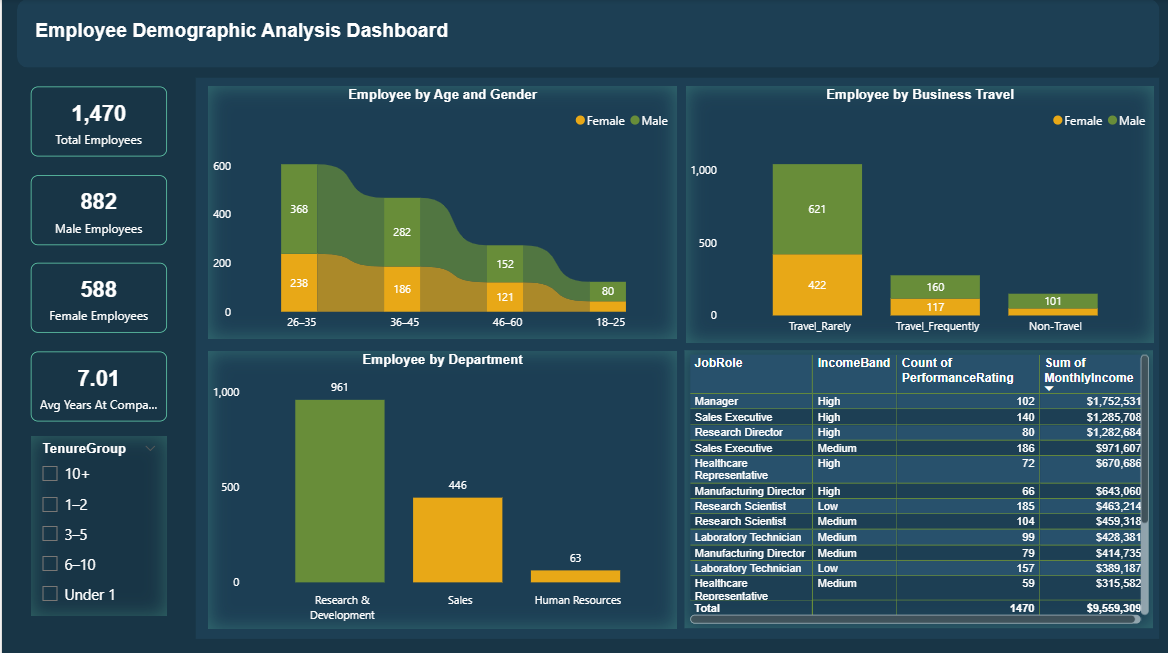

The page's visual inventory and layout, read from the dashboard file:
{"tool":"powerbi","page":{"name":"Employee Demographic Dahsboard","canvas":[1280,720],"ordinal":2},"visuals":[{"type":"shape","box":[16.5,0,1254.2,75.5],"z":0},{"type":"textbox","box":[31.6,17.8,945.5,42.5],"z":1000},{"type":"card","fields":{"Values":["Measure_Table.Total Employees"]},"box":[31.6,96.1,149.6,76.7],"z":2000,"group":"g1"},{"type":"slicer","fields":{"Values":["HR_Employee_Attrition.TenureGroup"]},"box":[31.6,480.3,149.6,197.6],"z":2000},{"type":"shape","box":[212.7,86.4,1058,616.1],"z":3000},{"type":"card","fields":{"Values":["Measure_Table.Total Employees"]},"box":[31.6,290.2,149.6,76.7],"z":3000,"group":"g1"},{"type":"ribbonChart","title":"Employee by Age and Gender","fields":{"Category":["HR_Employee_Attrition.AgeBand"],"Series":["HR_Employee_Attrition.Gender"],"Y":["Measure_Table.Total Employees"]},"box":[226.4,96.1,514.6,277.2],"z":4000},{"type":"card","fields":{"Values":["Measure_Table.Total Employees"]},"box":[31.6,193.1,149.6,76.7],"z":4000,"group":"g1"},{"type":"columnChart","title":"Employee by Business Travel","fields":{"Category":["HR_Employee_Attrition.BusinessTravel"],"Y":["Measure_Table.Total Employees"],"Series":["HR_Employee_Attrition.Gender"]},"box":[750.6,96.1,514.6,281.3],"z":5000},{"type":"card","fields":{"Values":["Measure_Table.Avg Years At Company"]},"box":[31.6,387.2,149.6,76.7],"z":5000,"group":"g1"},{"type":"tableEx","title":"Employee by Business Travel","fields":{"Values":["HR_Employee_Attrition.JobRole","HR_Employee_Attrition.IncomeBand","CountNonNull(HR_Employee_Attrition.PerformanceRating)","Sum(HR_Employee_Attrition.MonthlyIncome)"]},"box":[749.2,385.6,514.6,304.6],"z":6000},{"type":"columnChart","title":"Employee by Department","fields":{"Y":["Measure_Table.Total Employees"],"Category":["HR_Employee_Attrition.Department"]},"box":[226.4,387,514.6,304.6],"z":7000},{"type":"group","id":"g1","title":"Group 1","box":[31.6,96.1,149.6,367.8],"z":8000}]}

Visuals, with their boxes in screenshot pixels (x1, y1, x2, y2), scaled from the page's 1280x720 canvas onto the 1168x653 screenshot:
shape: [15, 0, 1160, 68]
textbox: [29, 16, 892, 55]
card - Measure_Table.Total Employees: [29, 87, 165, 157]
slicer - HR_Employee_Attrition.TenureGroup: [29, 436, 165, 615]
shape: [194, 78, 1160, 637]
card - Measure_Table.Total Employees: [29, 263, 165, 333]
"Employee by Age and Gender" ribbonChart: [207, 87, 676, 339]
card - Measure_Table.Total Employees: [29, 175, 165, 245]
"Employee by Business Travel" columnChart: [685, 87, 1154, 342]
card - Measure_Table.Avg Years At Company: [29, 351, 165, 421]
"Employee by Business Travel" tableEx: [684, 350, 1153, 626]
"Employee by Department" columnChart: [207, 351, 676, 627]
"Group 1" group: [29, 87, 165, 421]
